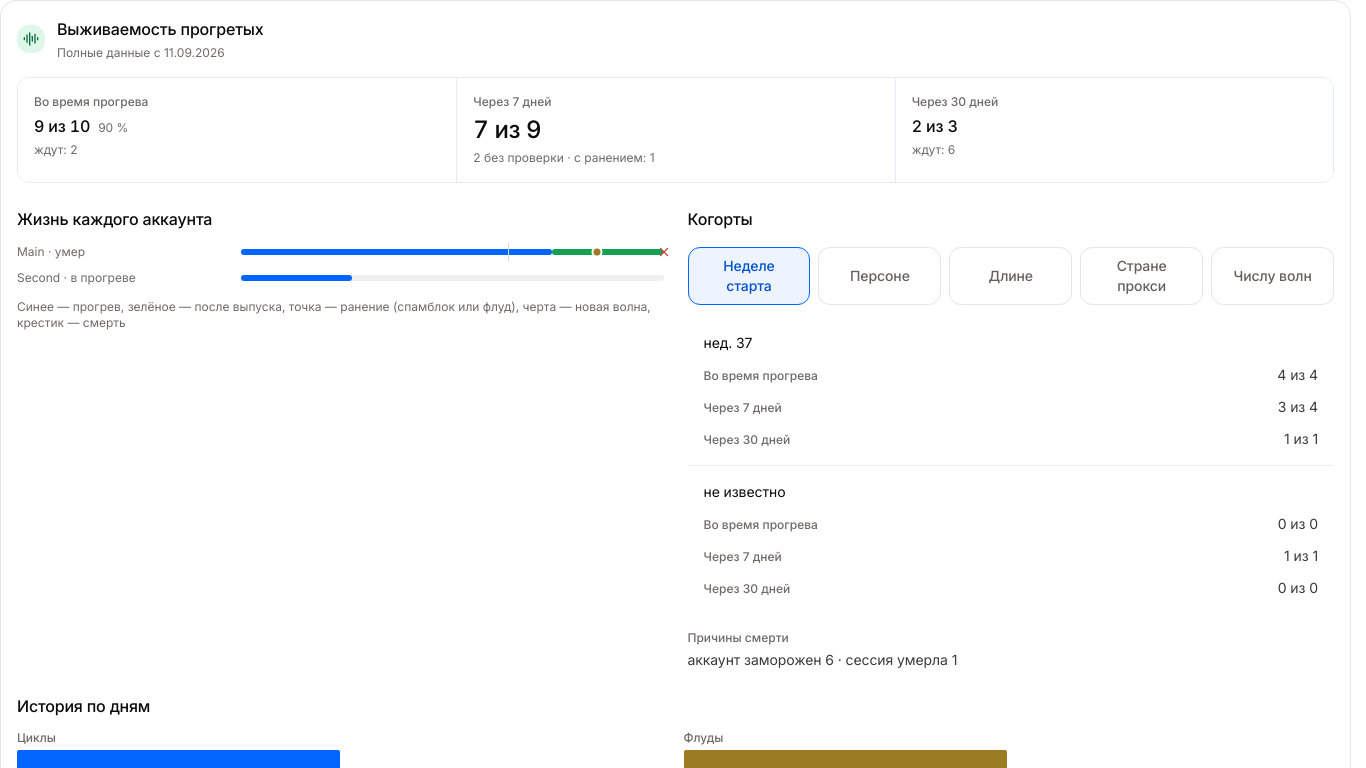
Test: another cohort cut asks the backend for it
What coordinates should you click on to do the following:
click the radio button labelled "Персоне"
I would click on:
 (880, 276)
Its box is left=818, top=247, right=941, bottom=305.
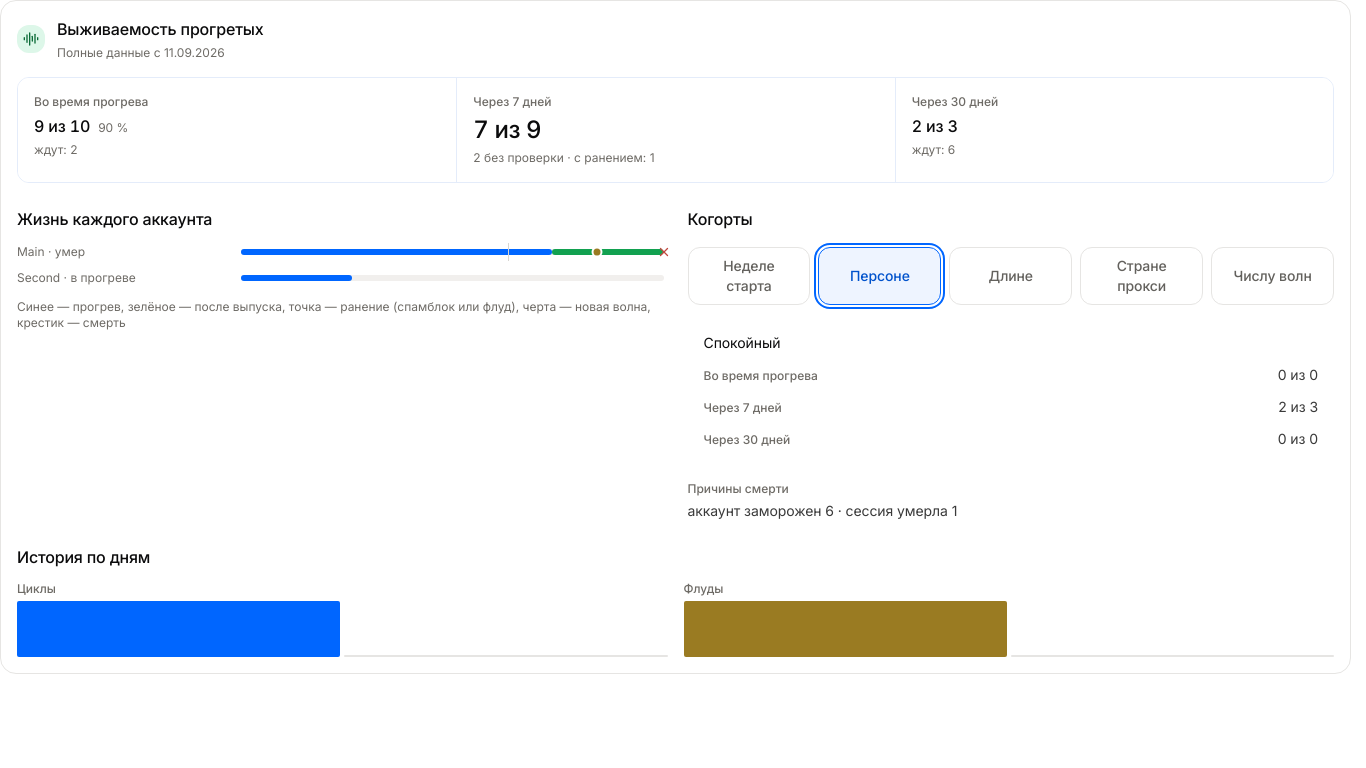
Expected: the text "Спокойный" is shown, left=704, top=334, right=780, bottom=351
